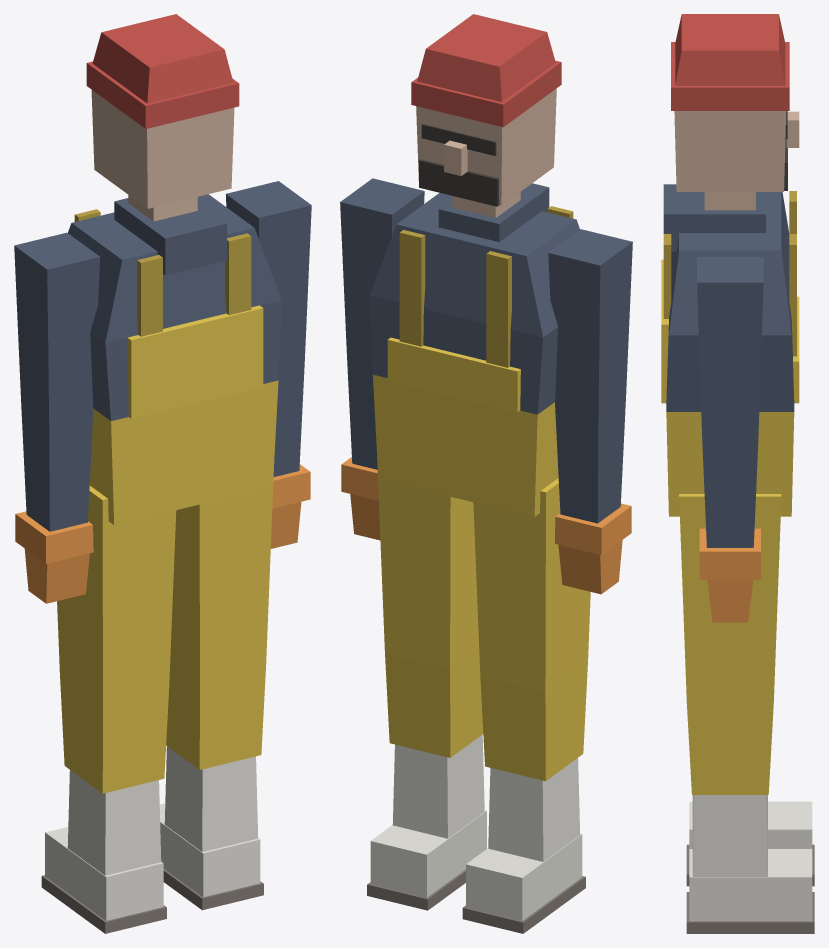
File: crew.glb
3 renders of one model, left to right at view 1: azimuth 30°, elevation 25°; view 2: azimuth 150°, elevation 25°; view 3: azimuth 270°, elevation 25°, orthographic. The views are drawn at different scales.
Parts seen in each view (by area): view 1: torso, leg_l, leg_r, arm_l, head, arm_r; view 2: torso, leg_l, leg_r, arm_l, head, arm_r; view 3: leg_r, torso, head, arm_r, leg_l.
Boxes of the visible parts, box(x1,y1,x2,y2) form: torso: box(68, 194, 281, 525); leg_l: box(41, 485, 176, 933); leg_r: box(159, 463, 274, 910); arm_l: box(14, 232, 100, 603); head: box(86, 14, 239, 221); arm_r: box(225, 181, 311, 548); torso: box(369, 183, 579, 516); leg_l: box(462, 478, 590, 933); leg_r: box(367, 457, 486, 910); arm_l: box(548, 229, 632, 594); head: box(411, 14, 561, 217); arm_r: box(340, 178, 424, 540); leg_r: box(679, 494, 814, 933); torso: box(661, 184, 799, 516); head: box(671, 14, 799, 210); arm_r: box(697, 257, 763, 622); leg_l: box(686, 795, 814, 886).
Size of the model in its own units: 0.6 by 1.86 by 0.3.
